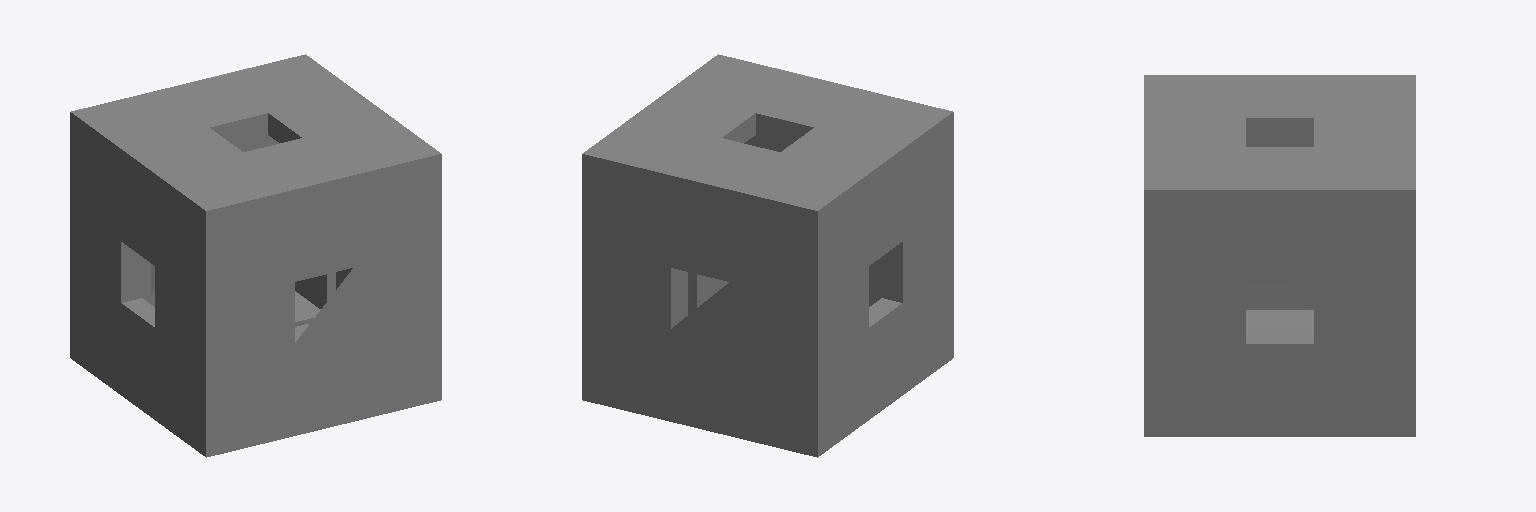
The picture shows the model from 3 angles: view 1: azimuth 30°, elevation 25°; view 2: azimuth 150°, elevation 25°; view 3: azimuth 270°, elevation 25°; orthographic projection.
Parts seen in each view (by area): view 1: CubeWhite; view 2: CubeWhite; view 3: CubeWhite.
Boxes of the visible parts, box(x1,y1,x2,y2) form: CubeWhite: box(70, 54, 441, 457); CubeWhite: box(582, 54, 953, 457); CubeWhite: box(1144, 75, 1415, 436).
Size of the model in its own units: 32.77 by 32.77 by 32.77.